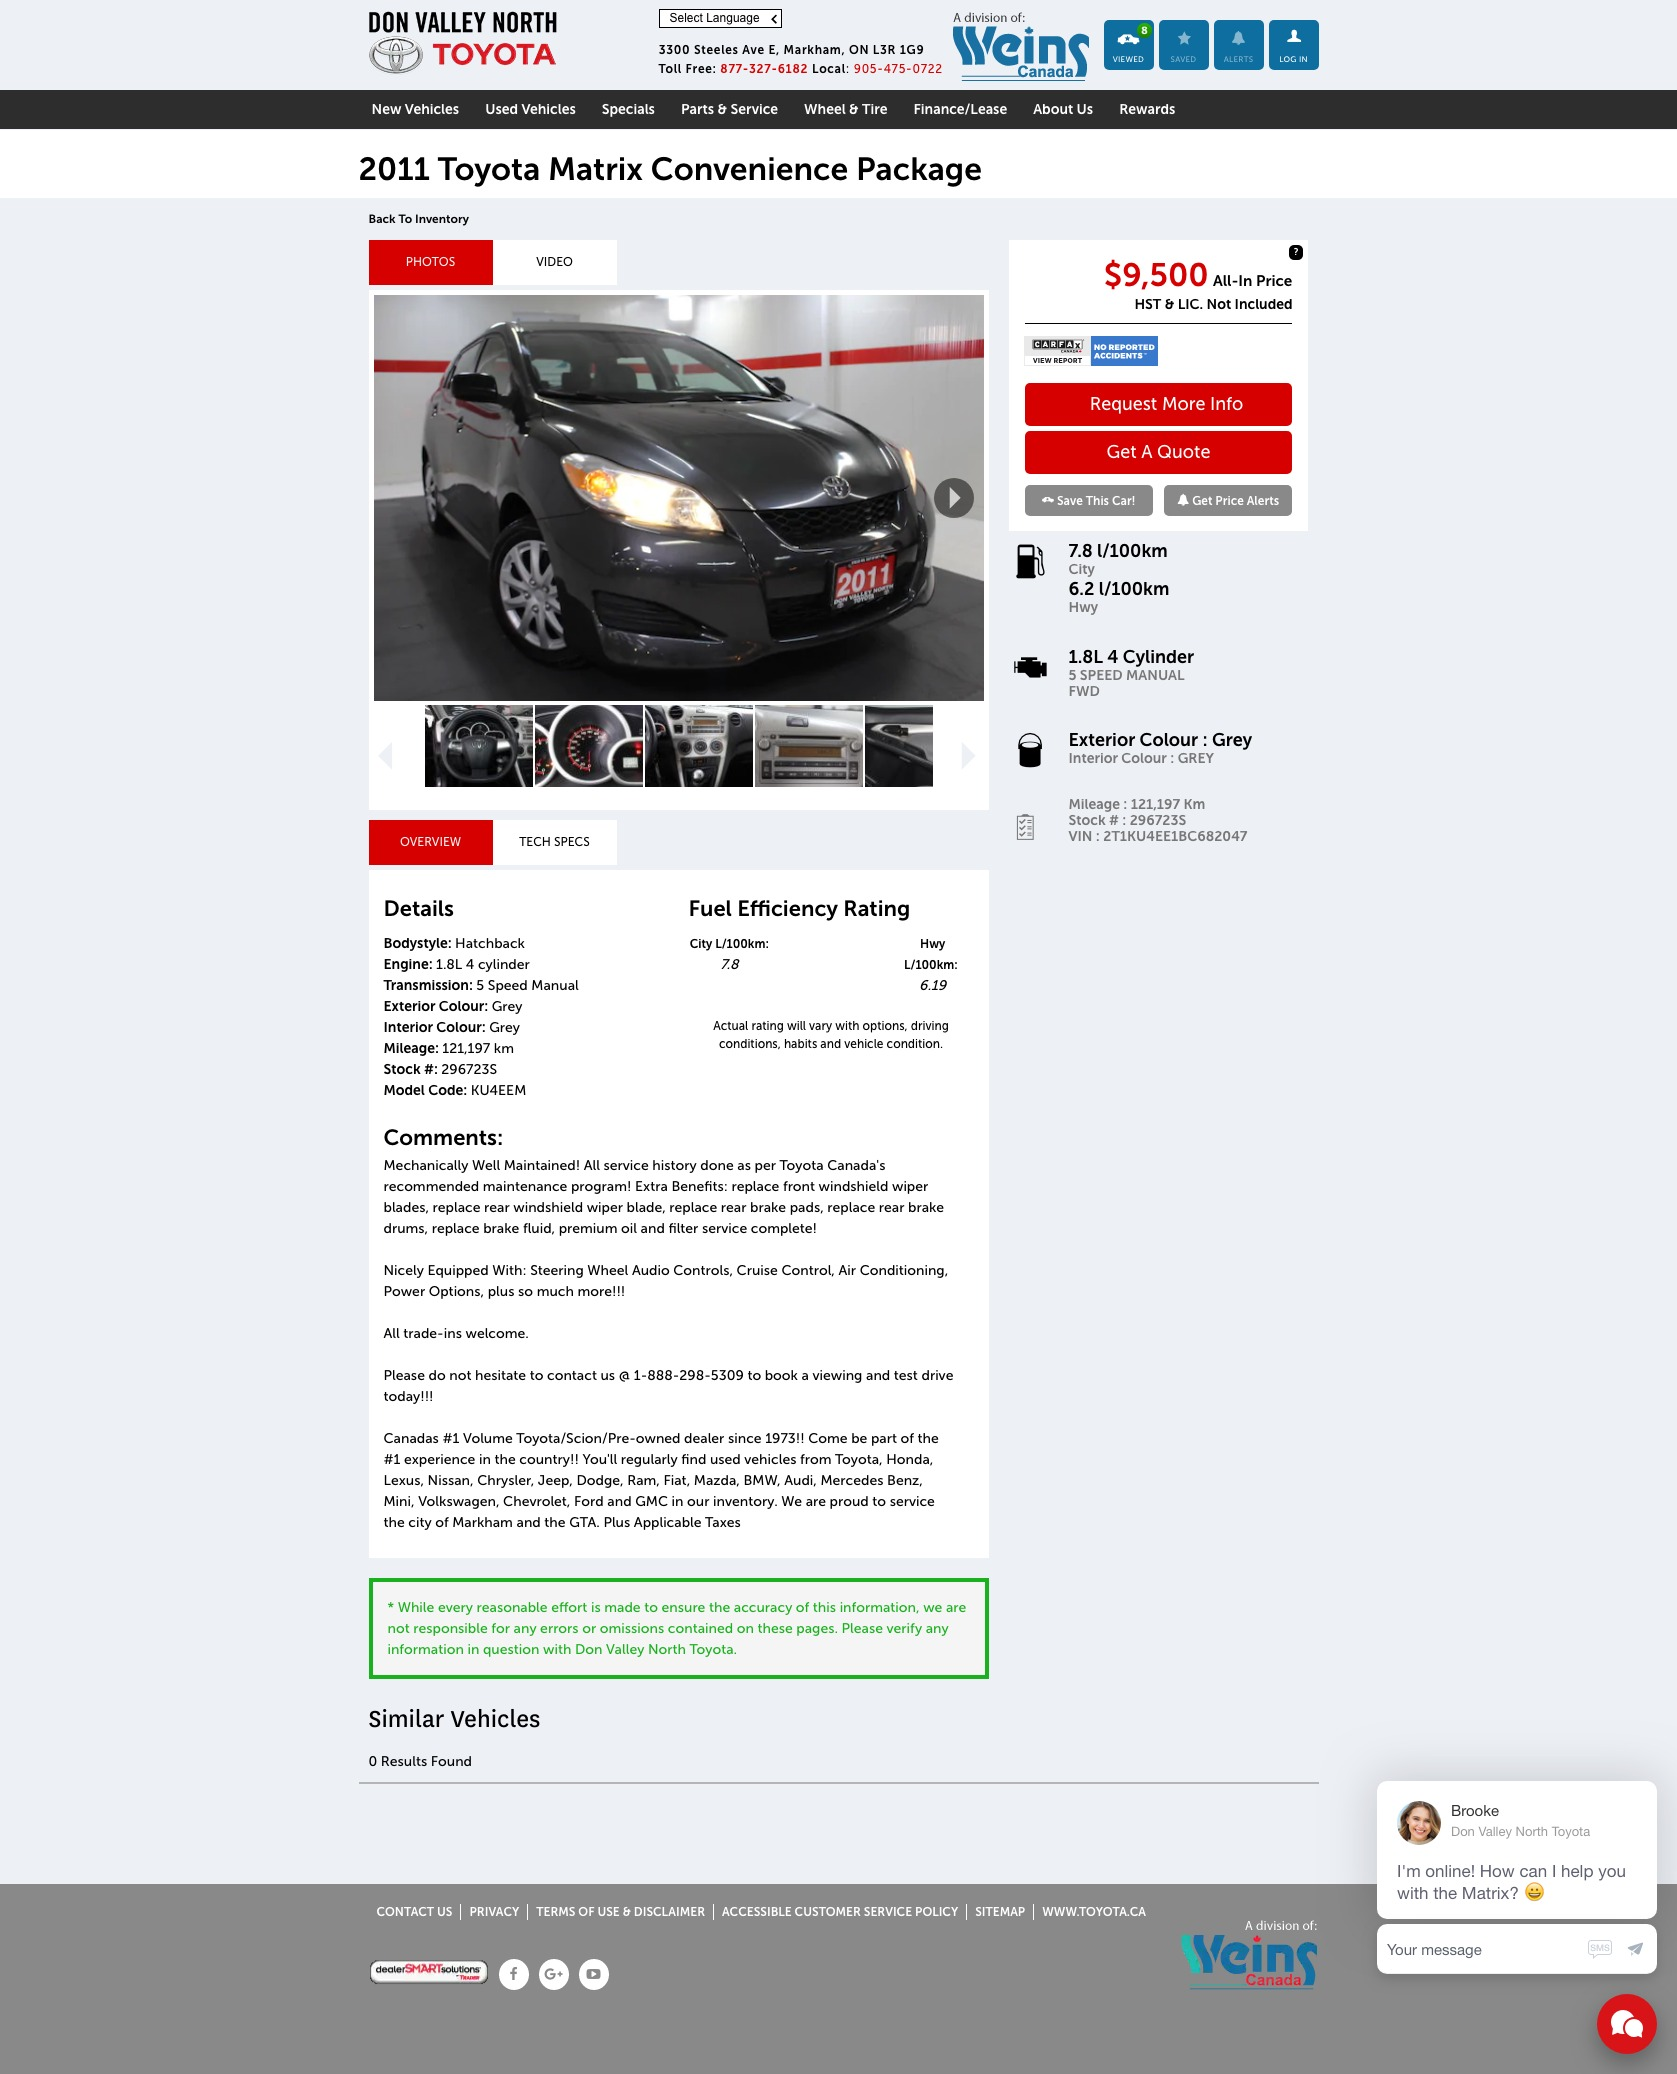car: (962, 741, 975, 770)
